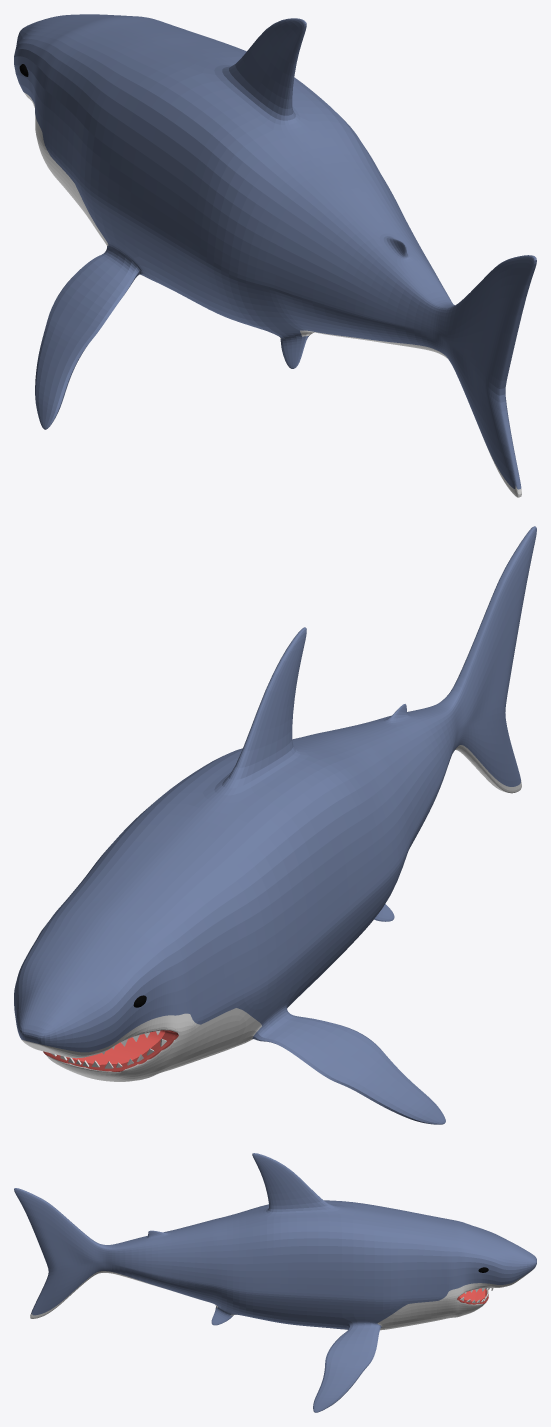
File: Shark.fbx
3 renders of one model, top to bottom at view 1: azimuth 30°, elevation 25°; view 2: azimuth 150°, elevation 25°; view 3: azimuth 270°, elevation 25°, orthographic. The views are drawn at different scales.
Parts seen in each view (by area): view 1: Shark; view 2: Shark; view 3: Shark.
Boxes of the visible parts, x1,y1,x2,y2 form: Shark: (14,14,536,497); Shark: (14,526,536,1124); Shark: (14,1153,536,1412).
Bounding box in the file's own units: 71.8 × 68.98 × 156.
